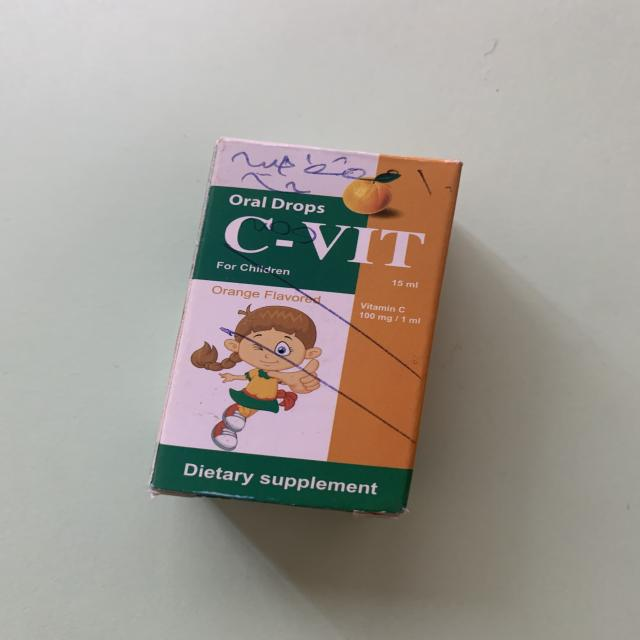C-VIT: (147, 139, 475, 518)
